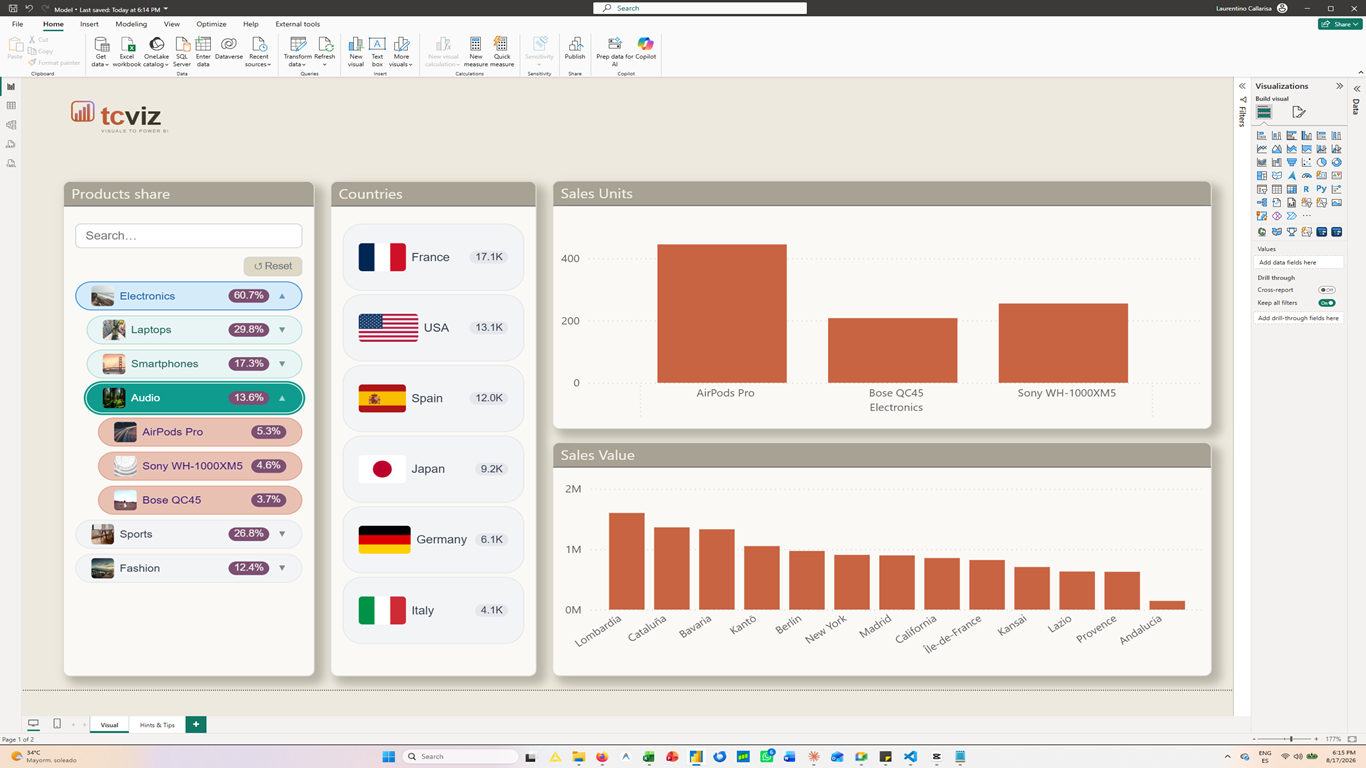

The page's visual inventory and layout, read from the dashboard file:
{"tool":"powerbi","page":{"name":"Visual","canvas":[1280,720],"ordinal":0},"visuals":[{"type":"chipSlicerHierarchy","title":"Products","fields":{"images":["ChipSlicer_TestData.Category_Image","ChipSlicer_TestData.Subcategory_Image","ChipSlicer_TestData.Product_Image"],"categories":["ChipSlicer_TestData.Category","ChipSlicer_TestData.Subcategory","ChipSlicer_TestData.Product"],"values":["Sum(ChipSlicer_TestData.Sales)"]},"box":[45.2,21.7,312.8,679.8],"z":0},{"type":"chipSlicerHierarchy","fields":{"images":["test_hierarchy.Flag URL"],"categories":["test_hierarchy.Level 1 (Country)","test_hierarchy.Level 2 (Region)","test_hierarchy.Level 3 (City)"]},"box":[391.7,21.7,876.8,476.7],"z":1}]}

Visuals, with their boxes on the page's 1280x720 design canvas (x1, y1, x2, y2). These are canvas units, not pixel positions in the 1366x768 screenshot, which may show the page scaled, cropped or inside an application window:
"Products" chipSlicerHierarchy: 45:22:358:702
chipSlicerHierarchy - test_hierarchy.Flag URL x test_hierarchy.Level 1 (Country): 392:22:1268:498
